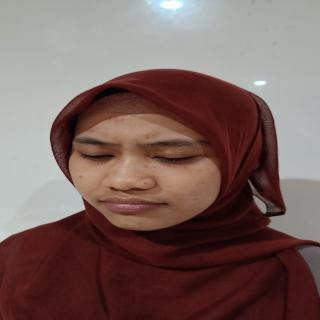Sedih: (58, 90, 233, 237)
